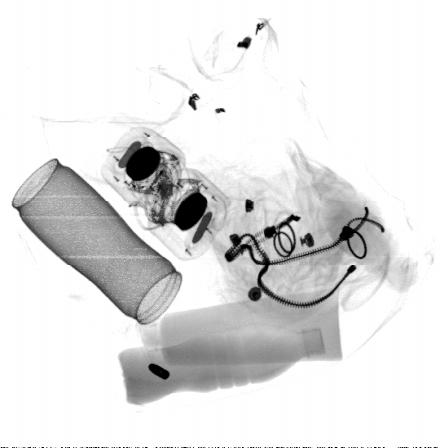Bullet: (148, 361, 171, 382)
